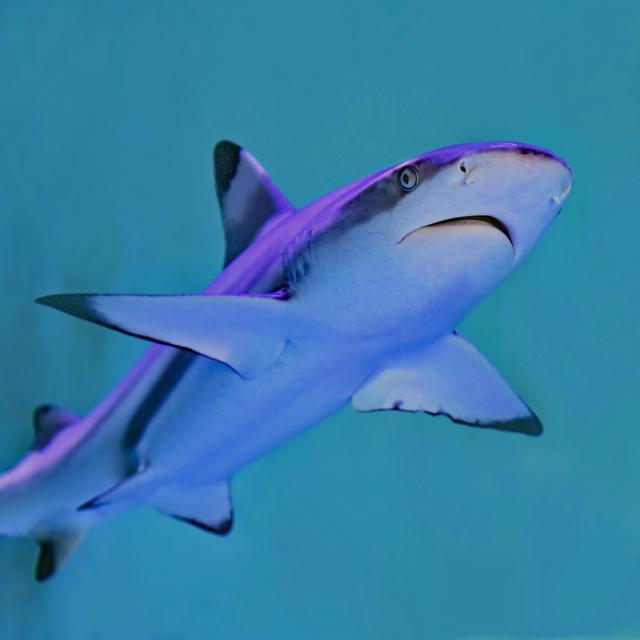gaviota: (0, 140, 574, 579)
